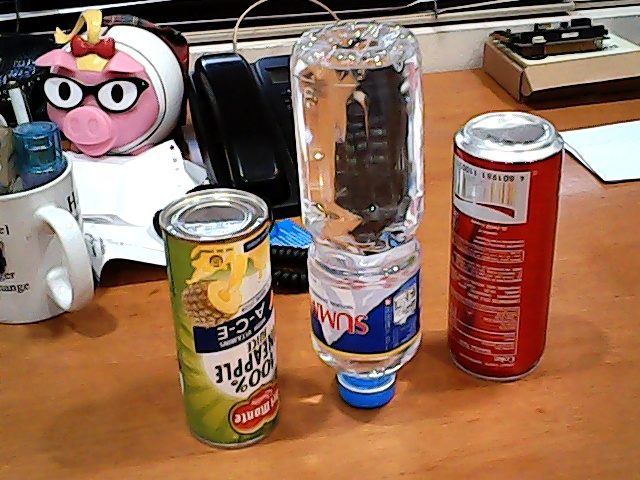Cola: (438, 107, 577, 398)
Pine Juice: (153, 182, 295, 456)
Summit Water: (298, 7, 438, 422)
